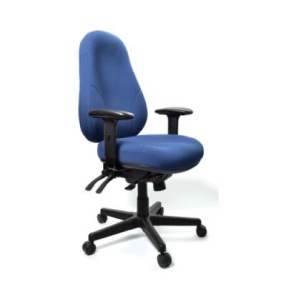chair: (78, 31, 208, 269)
